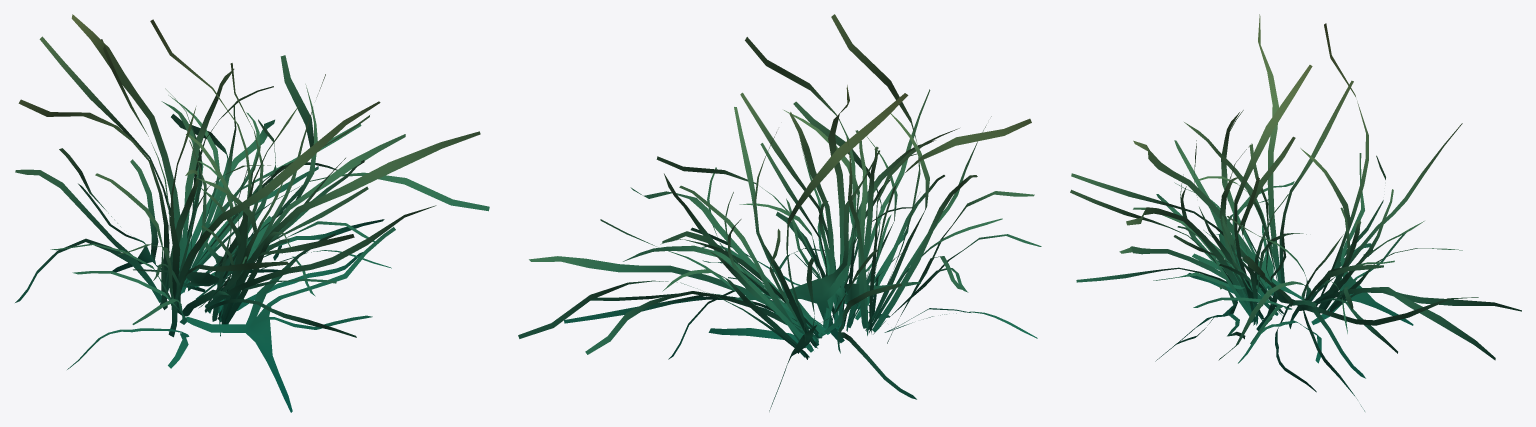
Rendered from grass_medium_01_5.glb.
The picture shows the model from 3 angles, left to right: view 1: azimuth 30°, elevation 25°; view 2: azimuth 150°, elevation 25°; view 3: azimuth 270°, elevation 25°; orthographic projection. The views are drawn at different scales.
Parts seen in each view (by area): view 1: grass_medium_01_mid_c_LOD0; view 2: grass_medium_01_mid_c_LOD0; view 3: grass_medium_01_mid_c_LOD0.
Part boxes in pixels (x1=…): grass_medium_01_mid_c_LOD0: x1=15, y1=14, x2=489, y2=412; grass_medium_01_mid_c_LOD0: x1=518, y1=14, x2=1041, y2=411; grass_medium_01_mid_c_LOD0: x1=1070, y1=14, x2=1521, y2=411.
Bounding box in the file's own units: 0.1923 × 0.1446 × 0.2029.
